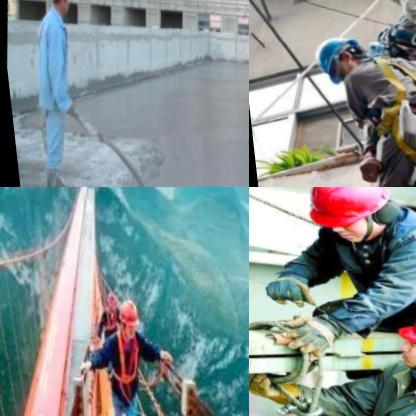helmet: (283, 187, 409, 256), (301, 35, 365, 87), (388, 302, 416, 389), (106, 298, 144, 350), (38, 0, 73, 17)
